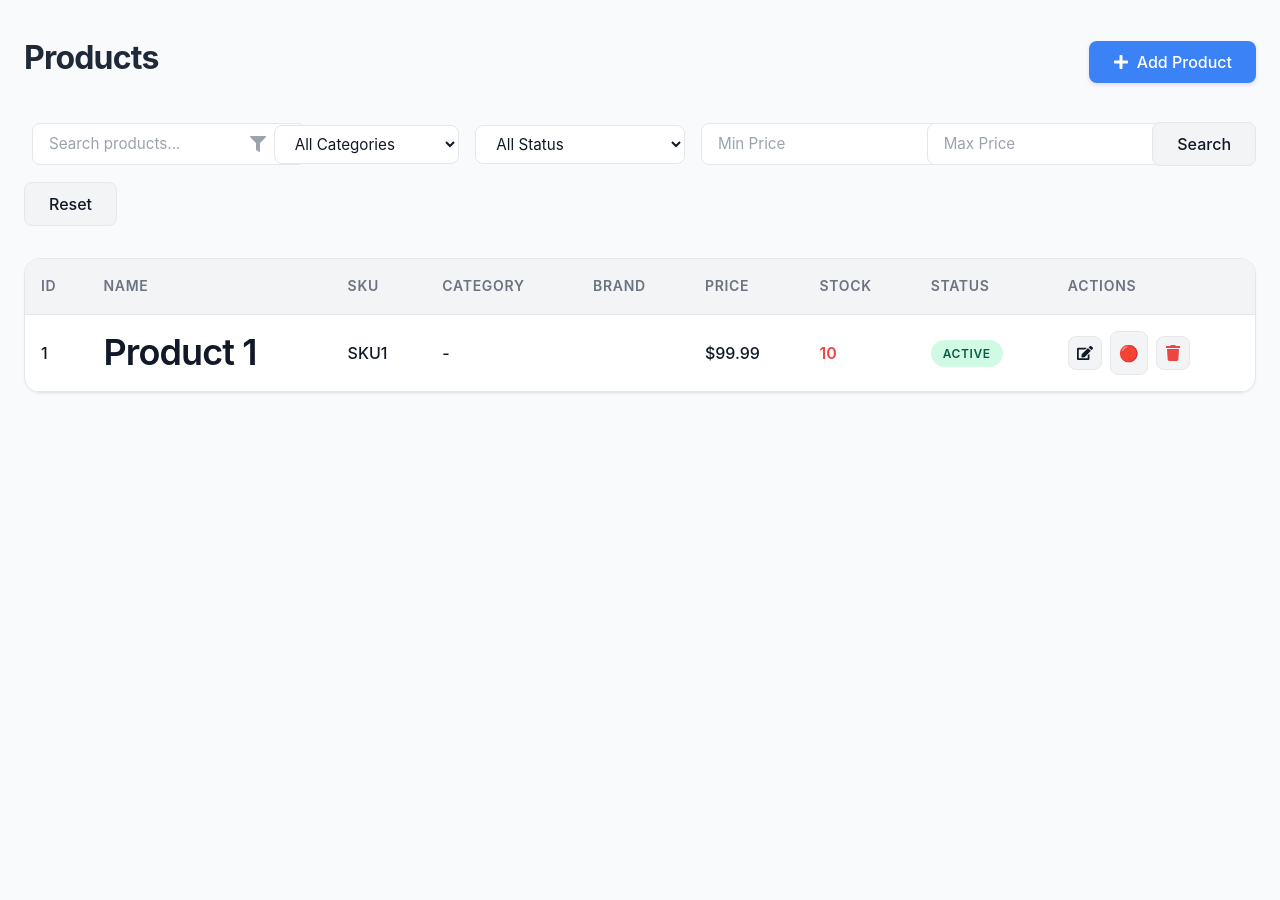
Admin Products Page › should open edit product modal
Click the button titled "Edit". click: (1085, 353)
box: x1=1068 y1=336 x2=1102 y2=370
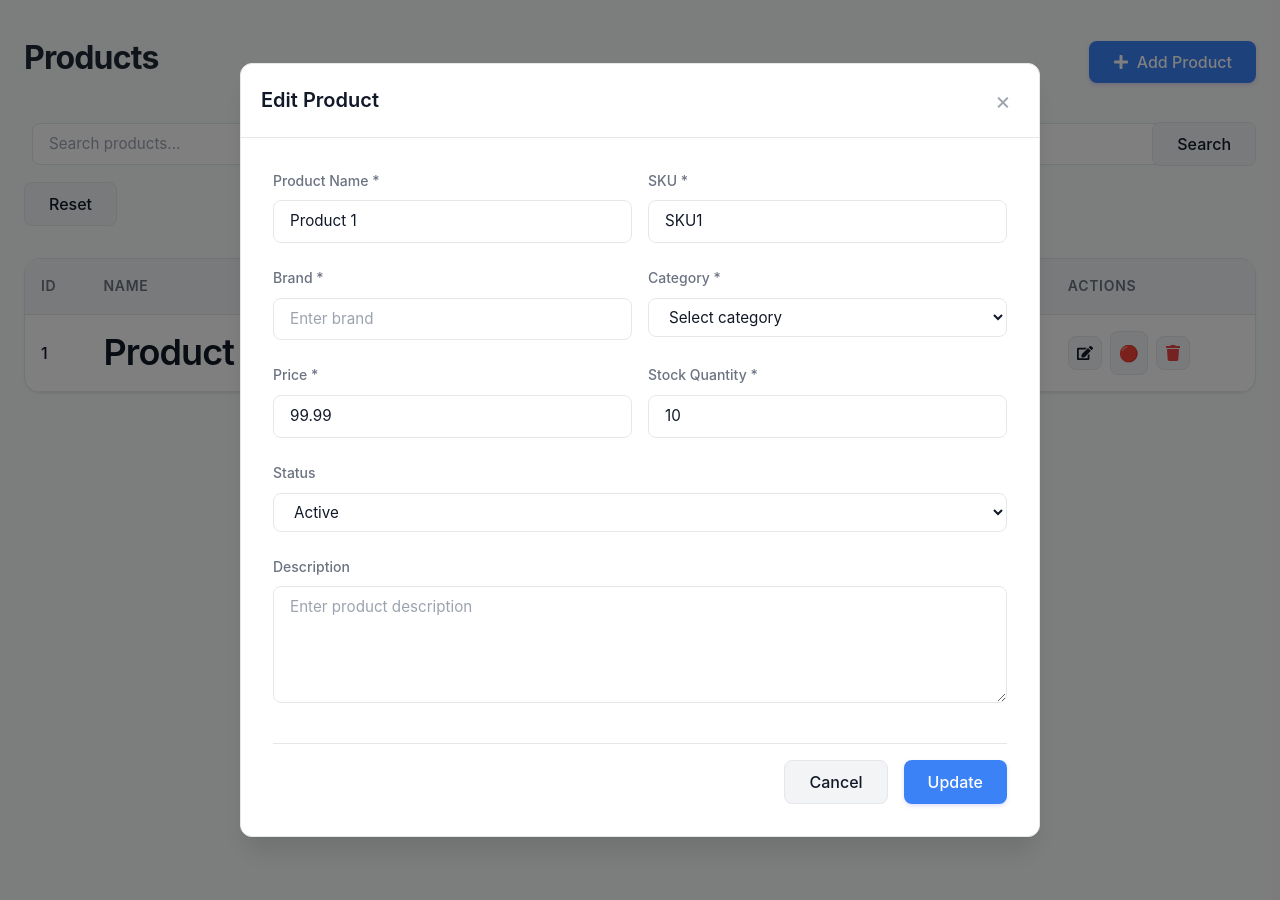
Result: the heading "Edit Product" is shown at x1=261 y1=84 x2=379 y2=116
